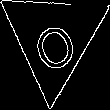O_NW: (26, 6, 81, 72)
